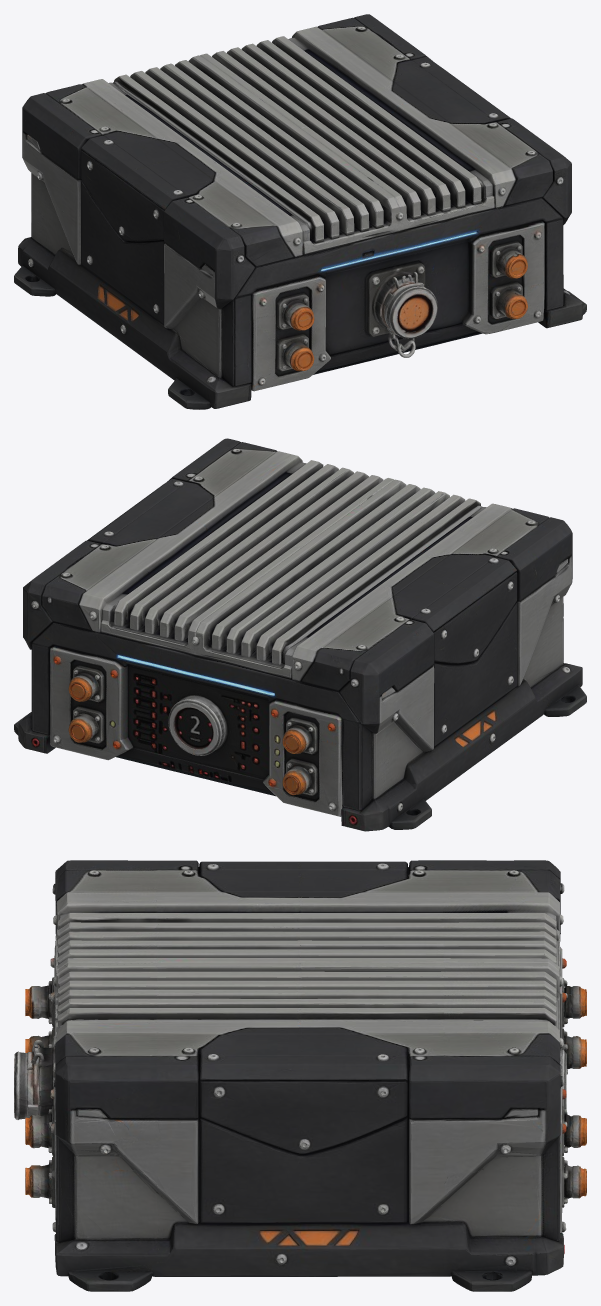
The model's file is vcu.glb.
3 views of the same model, one above another, from view 1: azimuth 30°, elevation 25°; view 2: azimuth 150°, elevation 25°; view 3: azimuth 270°, elevation 25° (orthographic). The views are drawn at different scales.
Size of the model in its own units: 1 by 0.4063 by 1.
1 material, 1 textured.
